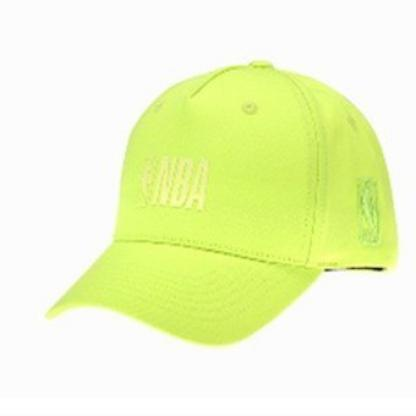cap: (32, 53, 405, 352)
